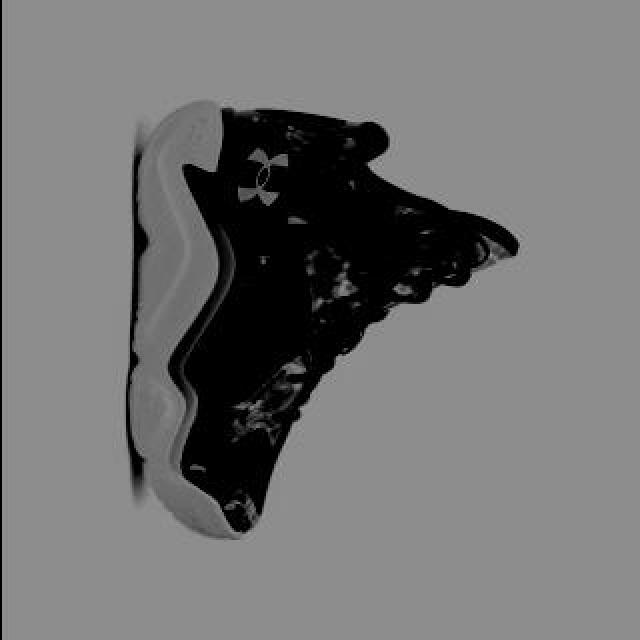shoe: (130, 99, 522, 543)
